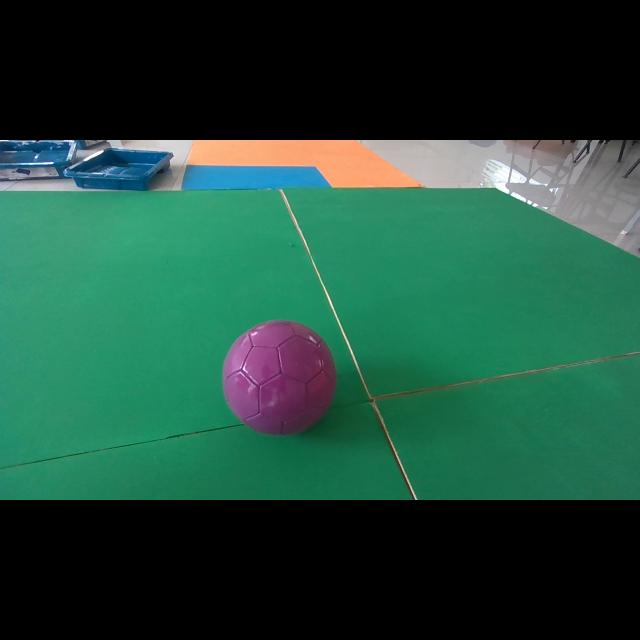P: (224, 320, 336, 435)
